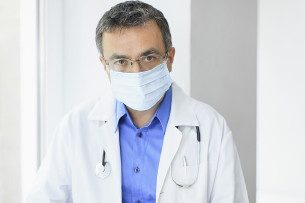Mask: (106, 47, 170, 110)
